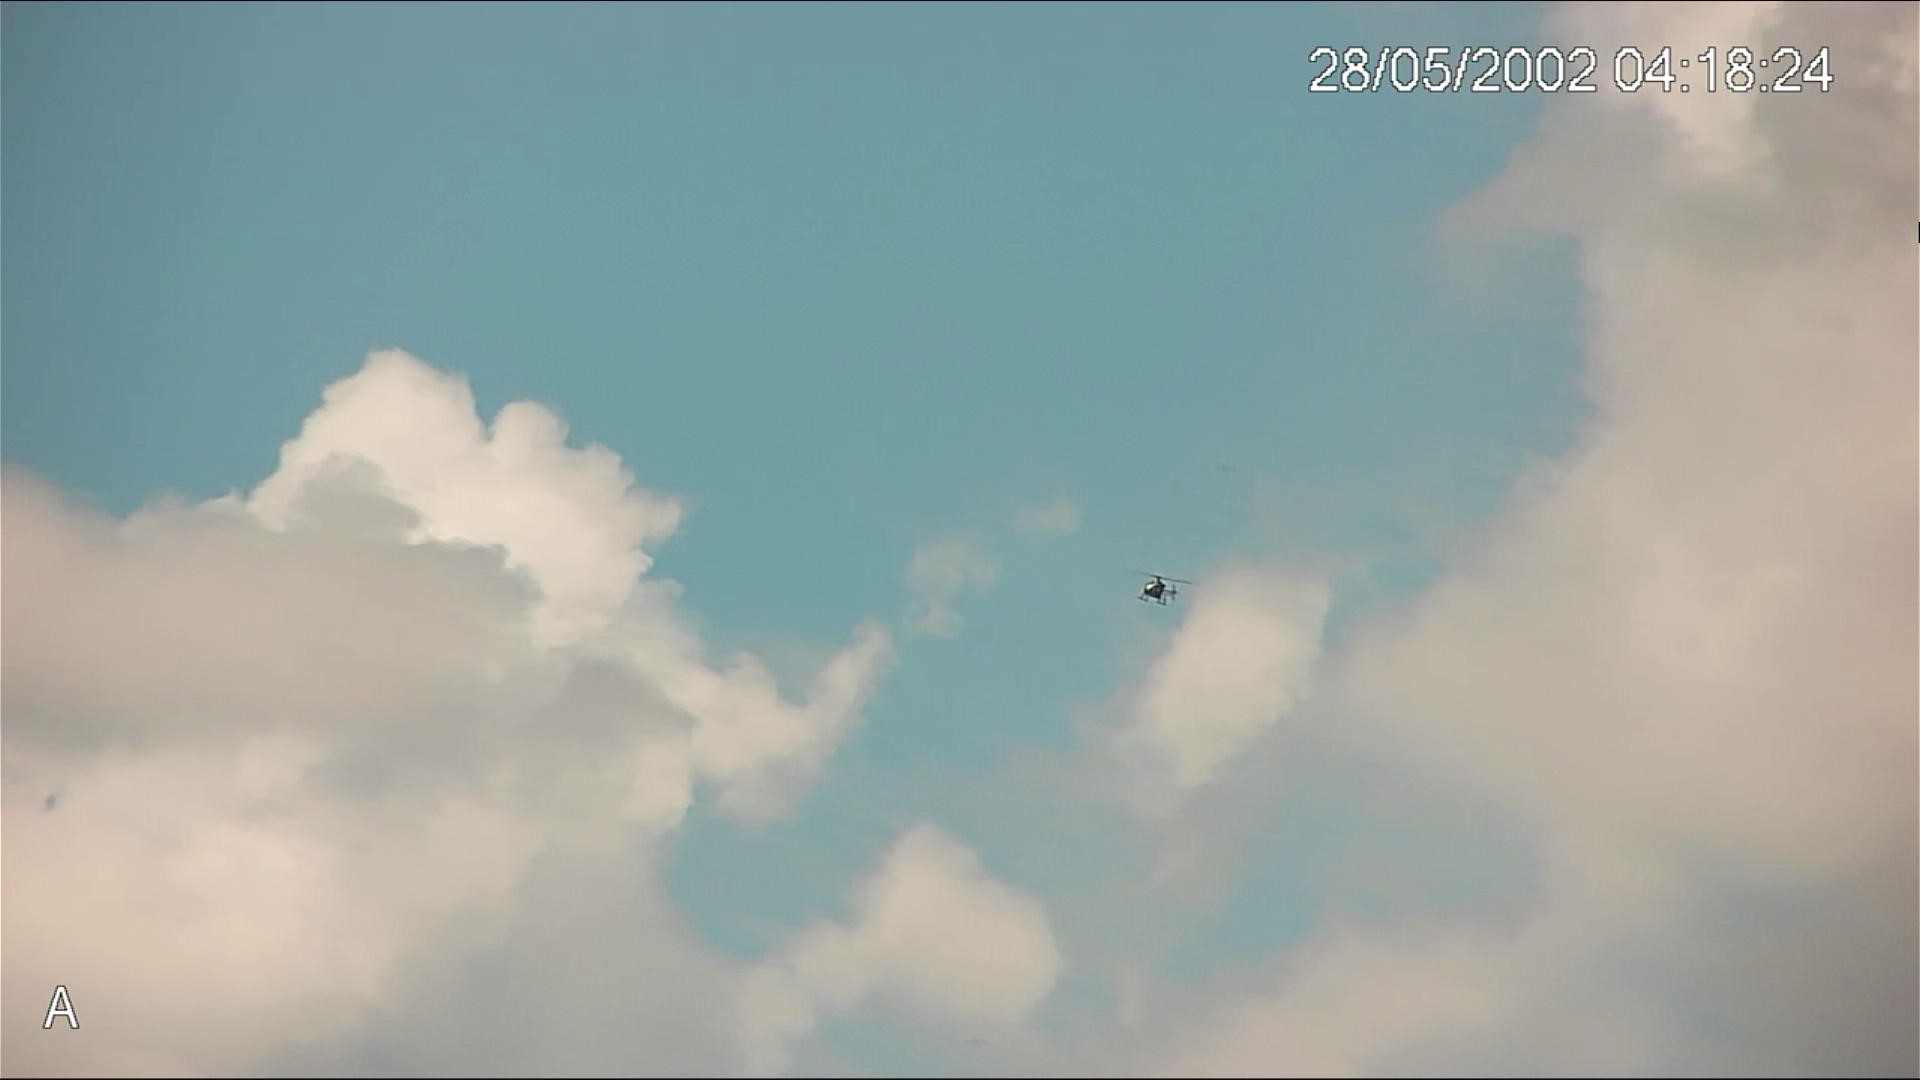SU_30: (1134, 572, 1178, 611)
